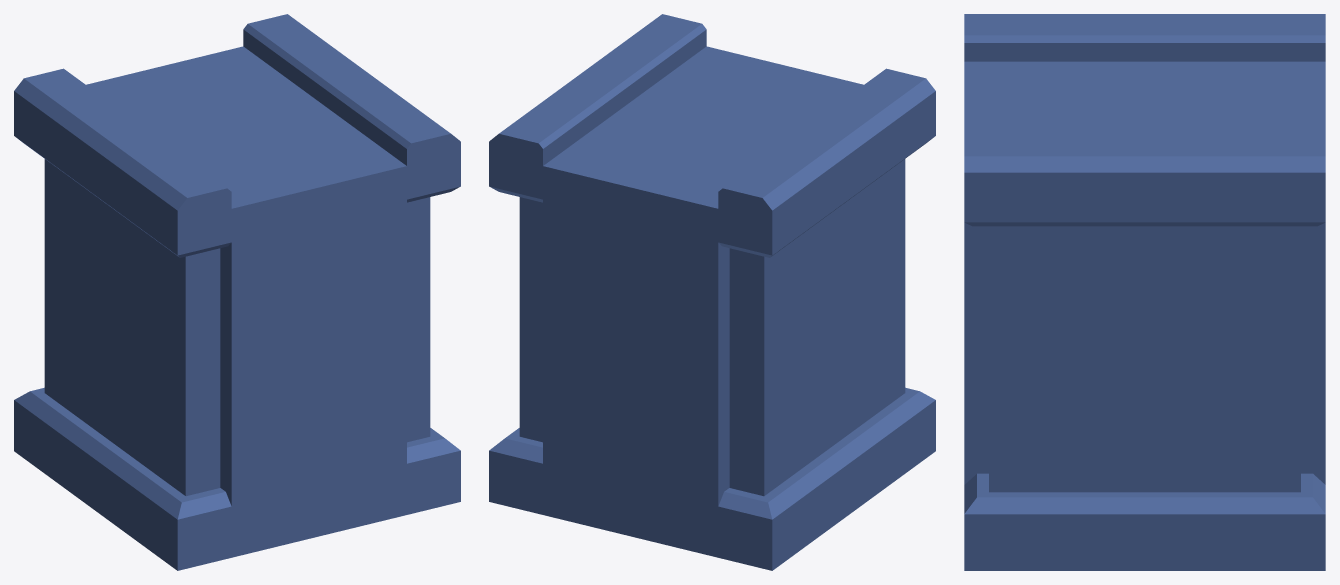
File: Wall_Straight_01.fbx
3 renders of one model, left to right at view 1: azimuth 30°, elevation 25°; view 2: azimuth 150°, elevation 25°; view 3: azimuth 270°, elevation 25°, orthographic. The views are drawn at different scales.
Visible parts, largest first — view 1: Wall_Straight_01; view 2: Wall_Straight_01; view 3: Wall_Straight_01.
Part boxes in pixels (x1,y1,x2,y2): Wall_Straight_01: (14, 14, 460, 570); Wall_Straight_01: (489, 14, 935, 570); Wall_Straight_01: (964, 14, 1325, 570).
Bounding box in the file's own units: 160 × 200 × 160.
